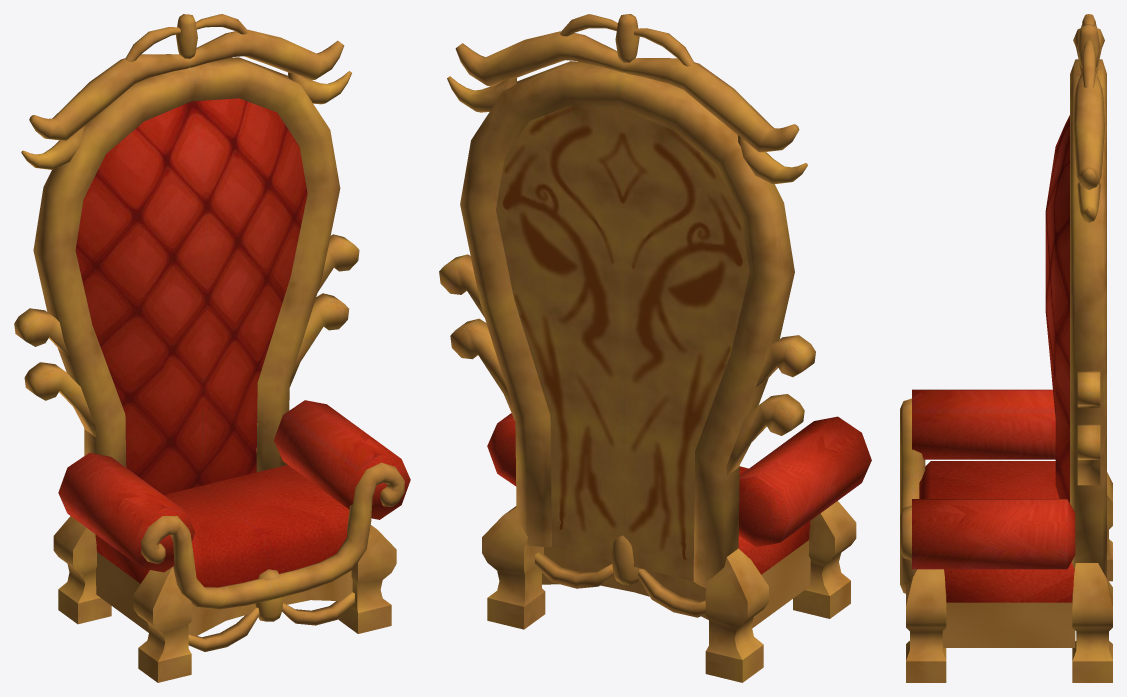
Rendered from Throne.glb.
The picture shows the model from 3 angles, left to right: view 1: azimuth 30°, elevation 25°; view 2: azimuth 150°, elevation 25°; view 3: azimuth 270°, elevation 25°; orthographic projection. The views are drawn at different scales.
Parts seen in each view (by area): view 1: Throne_0; view 2: Throne_0; view 3: Throne_0.
Part boxes in pixels (<box>): Throne_0: <box>14,14,410,682</box>; Throne_0: <box>439,14,871,682</box>; Throne_0: <box>900,14,1112,682</box>.
Size of the model in its own units: 1.24 by 2.04 by 0.6573.
Materials: 1 (1 with a texture image).
